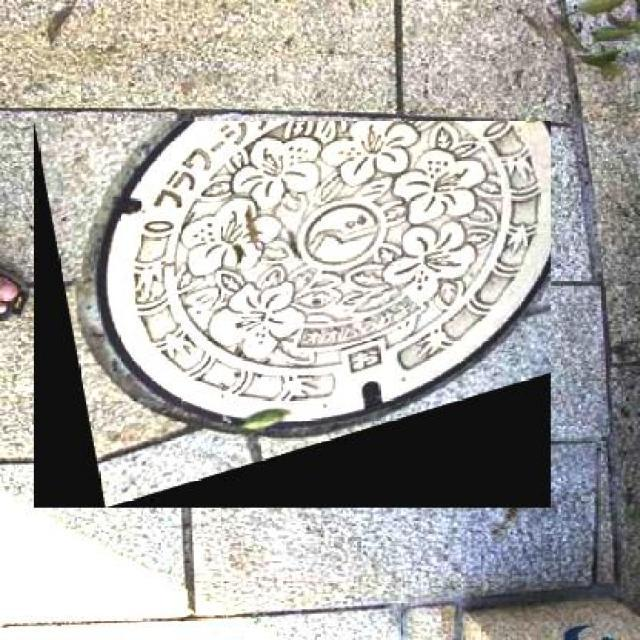Manhole: (34, 120, 550, 508)
